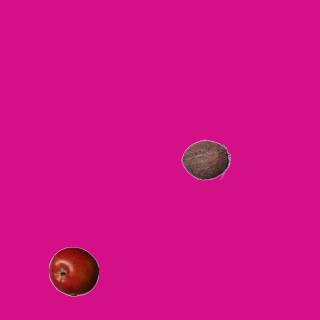Apple Braeburn: (48, 246, 98, 296)
Cocos: (180, 134, 230, 184)
